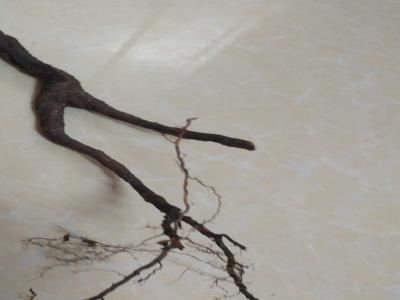Root: (0, 31, 183, 222), (184, 131, 255, 151)
